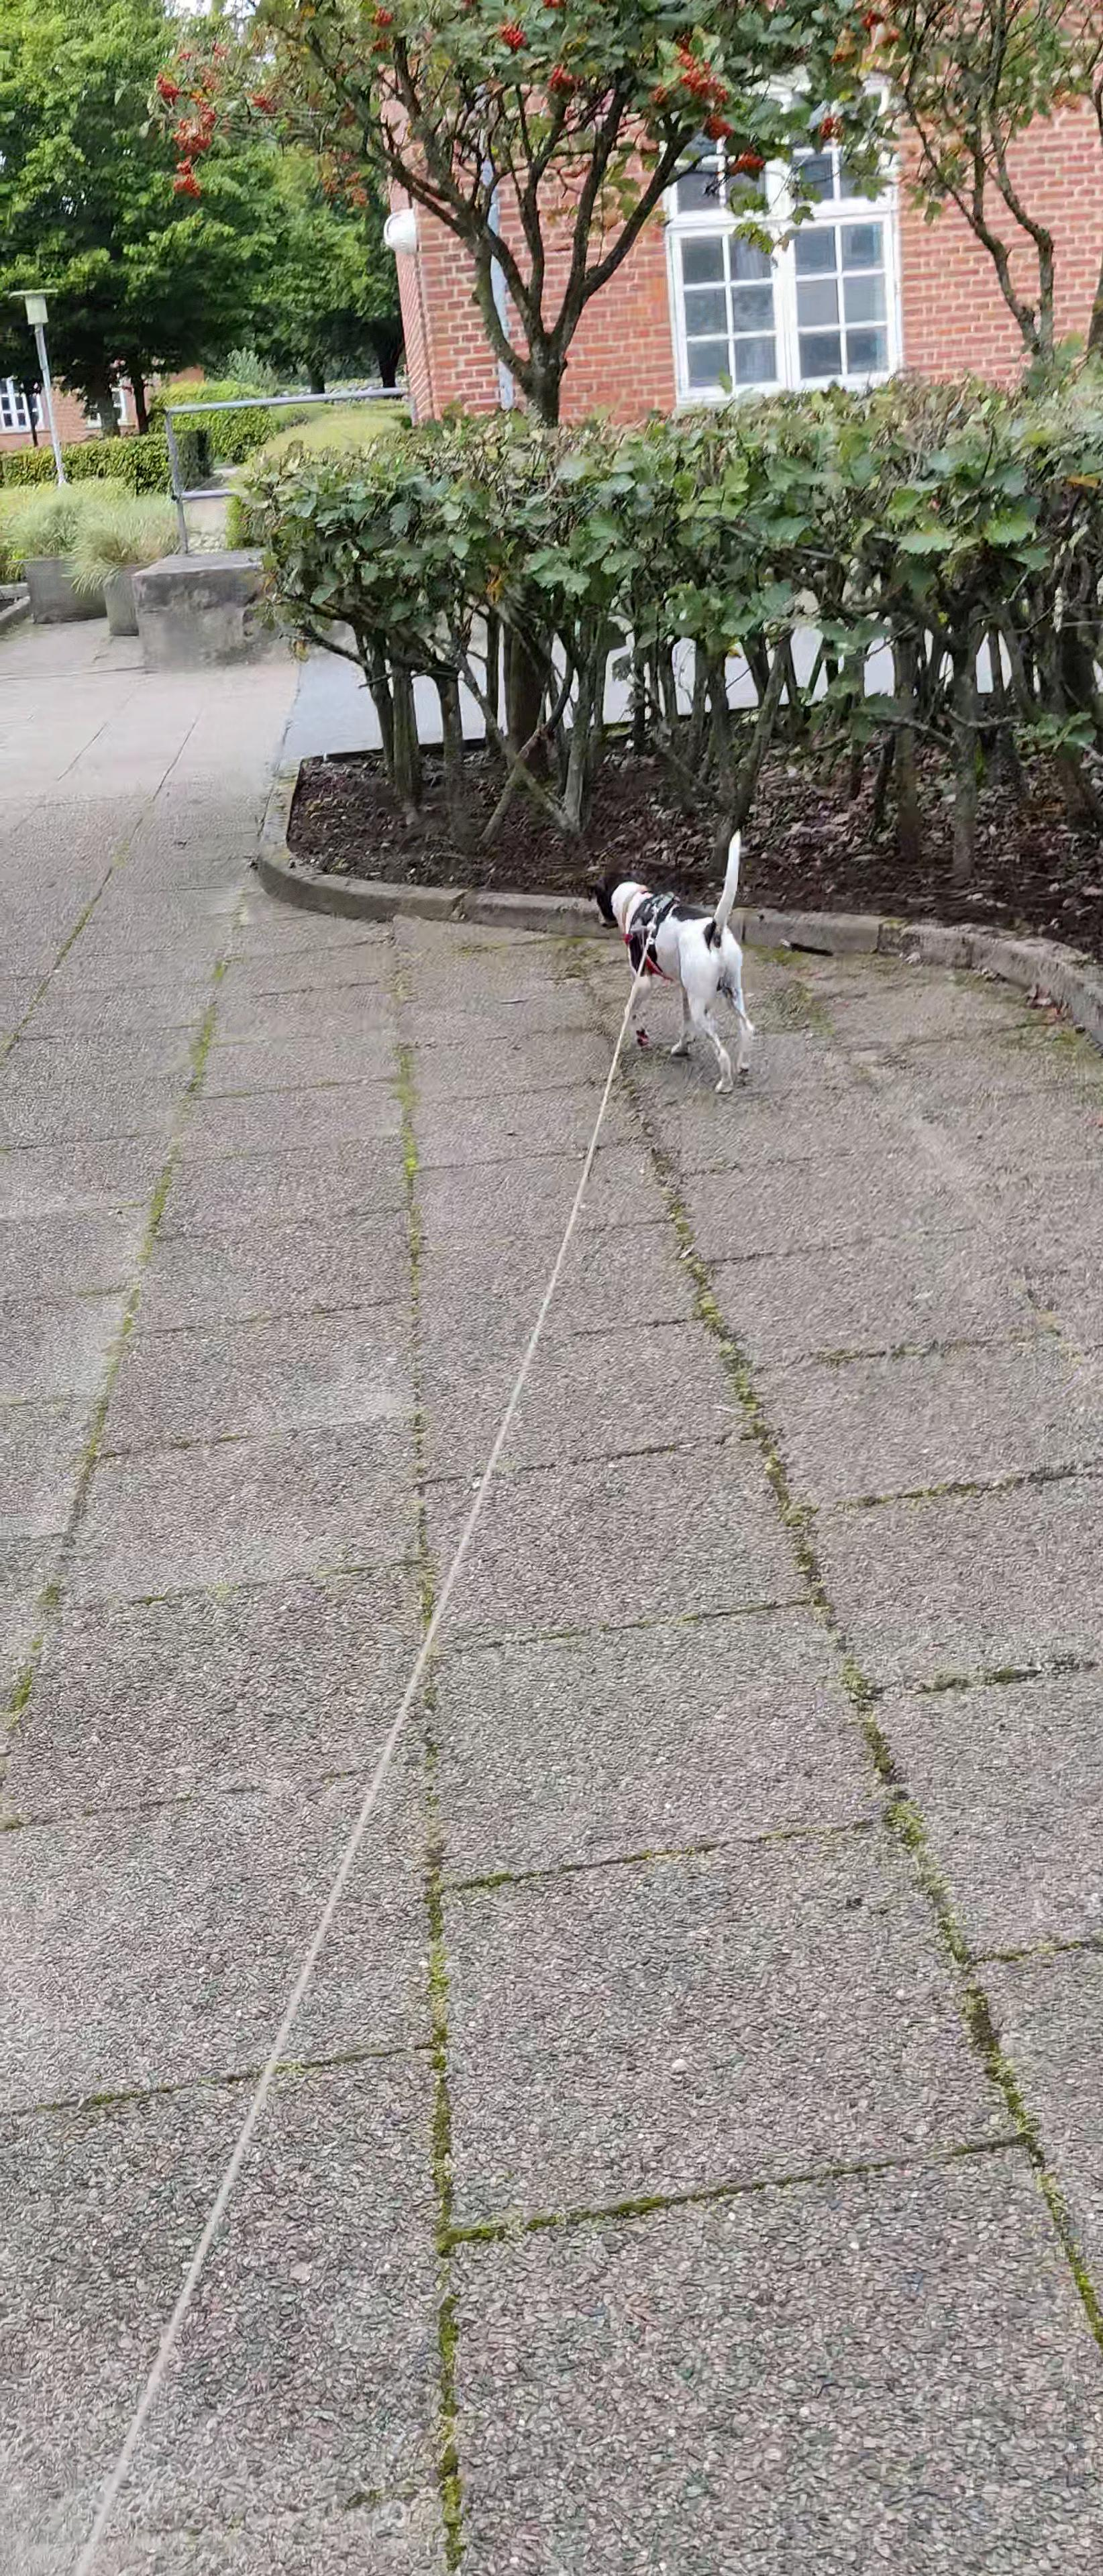Dog: (582, 821, 763, 1109)
